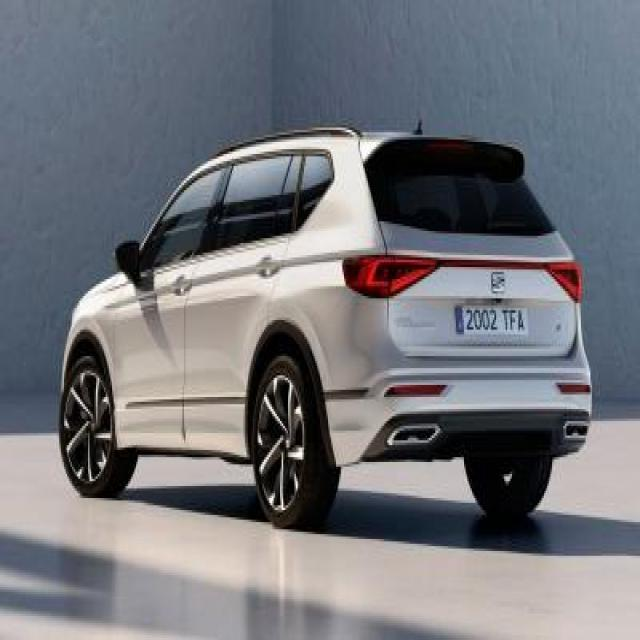license_plate-34Td: (455, 306, 528, 335)
